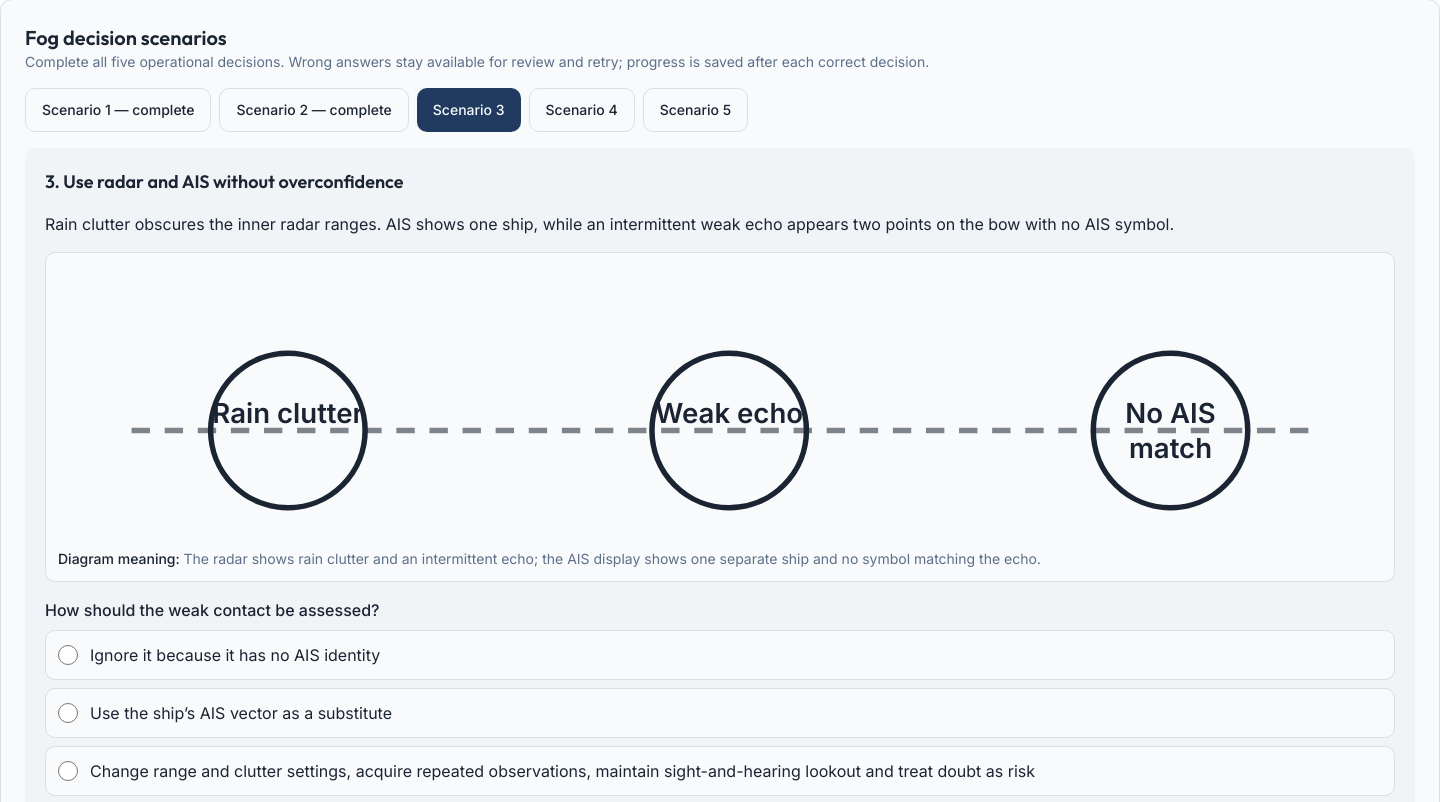
Test case: FogScenarioPractice › restores completed evidence, disables repeat input and remains responsive
Step 1. Click the button "Scenario 1 — complete" → (118, 110), box x1=25 y1=88 x2=212 y2=132
(page scrolled)
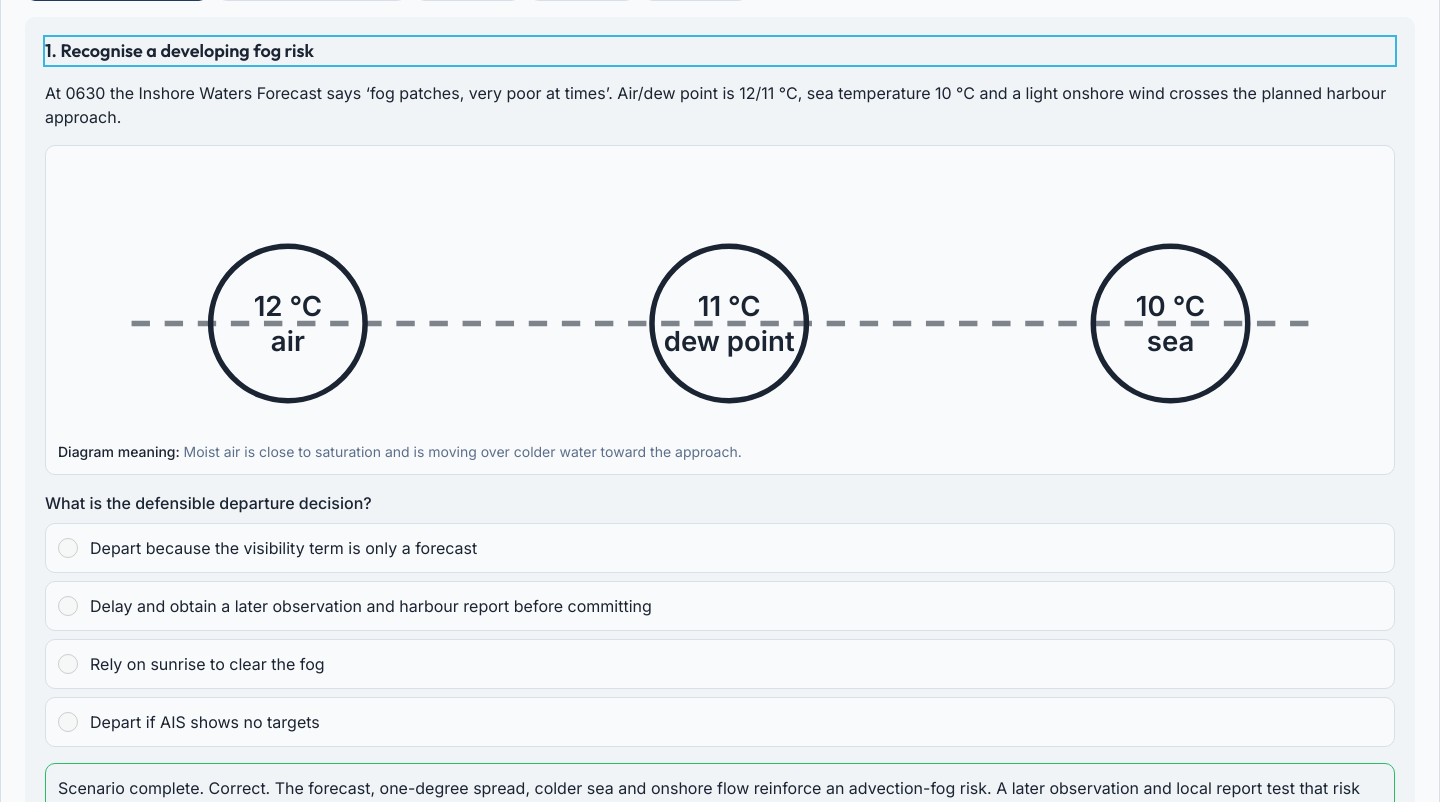
Expected: the 4th element with class "min-w-0" is shown, x1=45 y1=523 x2=1395 y2=747
Now the element "defensible departure" is disabled, box x1=45 y1=491 x2=1395 y2=747
Now the message shows "Scenario complete", box x1=58 y1=778 x2=209 y2=798
